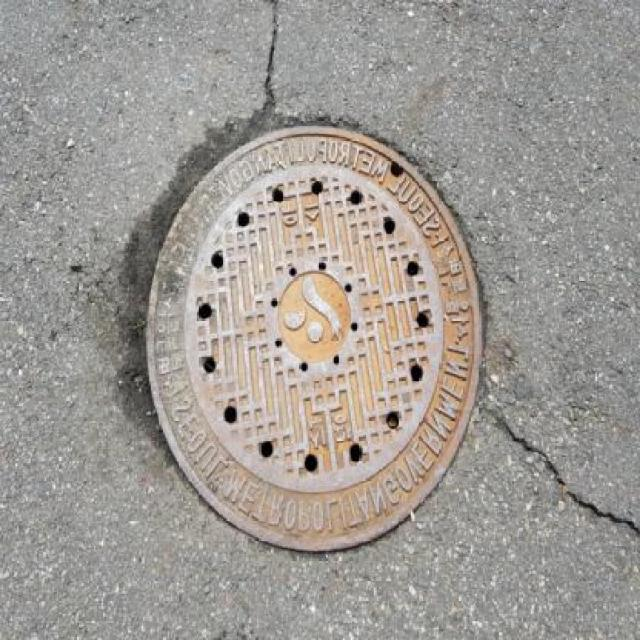Sewer Cover: (102, 119, 520, 556)
